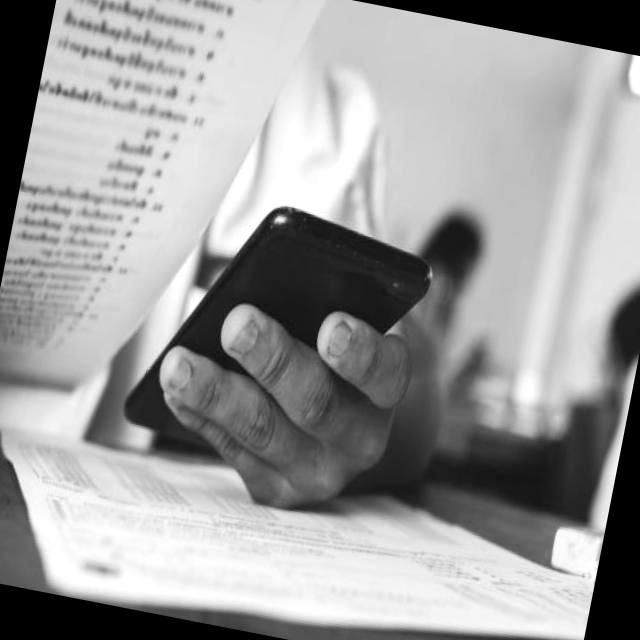phone: (119, 180, 441, 487)
